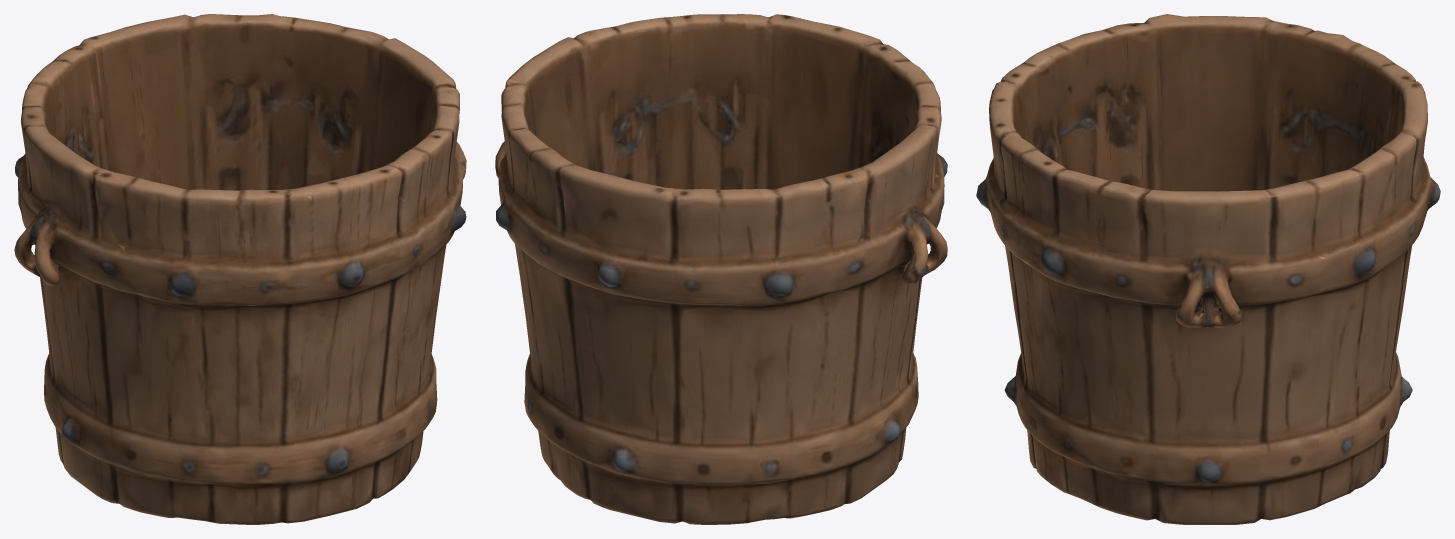
The model's file is WoodTub.glb.
3 renders of one model, left to right at view 1: azimuth 30°, elevation 25°; view 2: azimuth 150°, elevation 25°; view 3: azimuth 270°, elevation 25°, orthographic.
Visible parts, largest first — view 1: WoodTub; view 2: WoodTub; view 3: WoodTub.
Part boxes in pixels (<box>): WoodTub: <box>14,14,466,524</box>; WoodTub: <box>495,14,947,524</box>; WoodTub: <box>976,14,1440,524</box>.
Size of the model in its own units: 0.7168 by 0.5585 by 0.677.
1 material, 1 textured.
